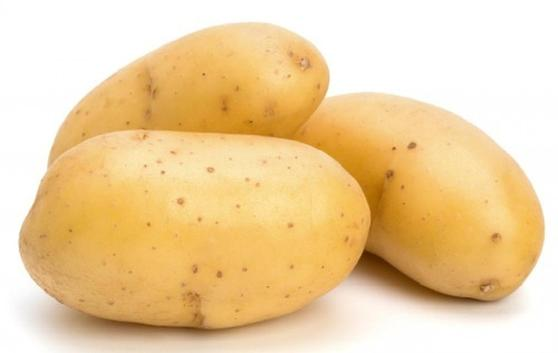potato: (24, 133, 375, 329), (320, 84, 547, 303)
